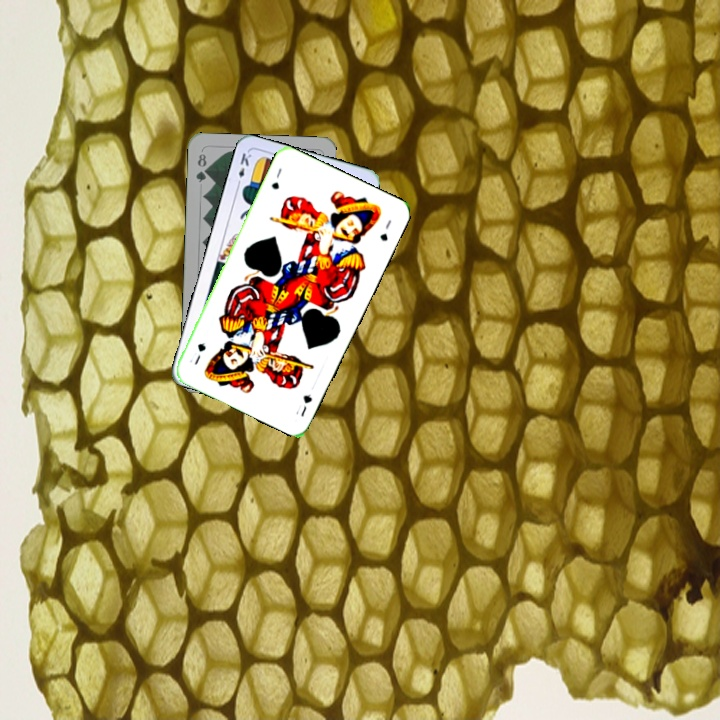EK: (233, 149, 254, 189)
G8: (192, 149, 210, 185)
GU: (292, 390, 315, 419), (267, 164, 284, 192)
